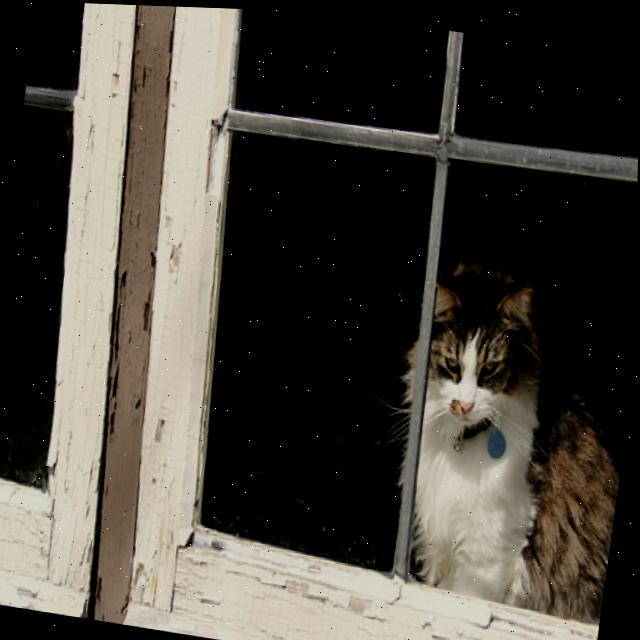Maine Coon: (378, 245, 637, 617)
